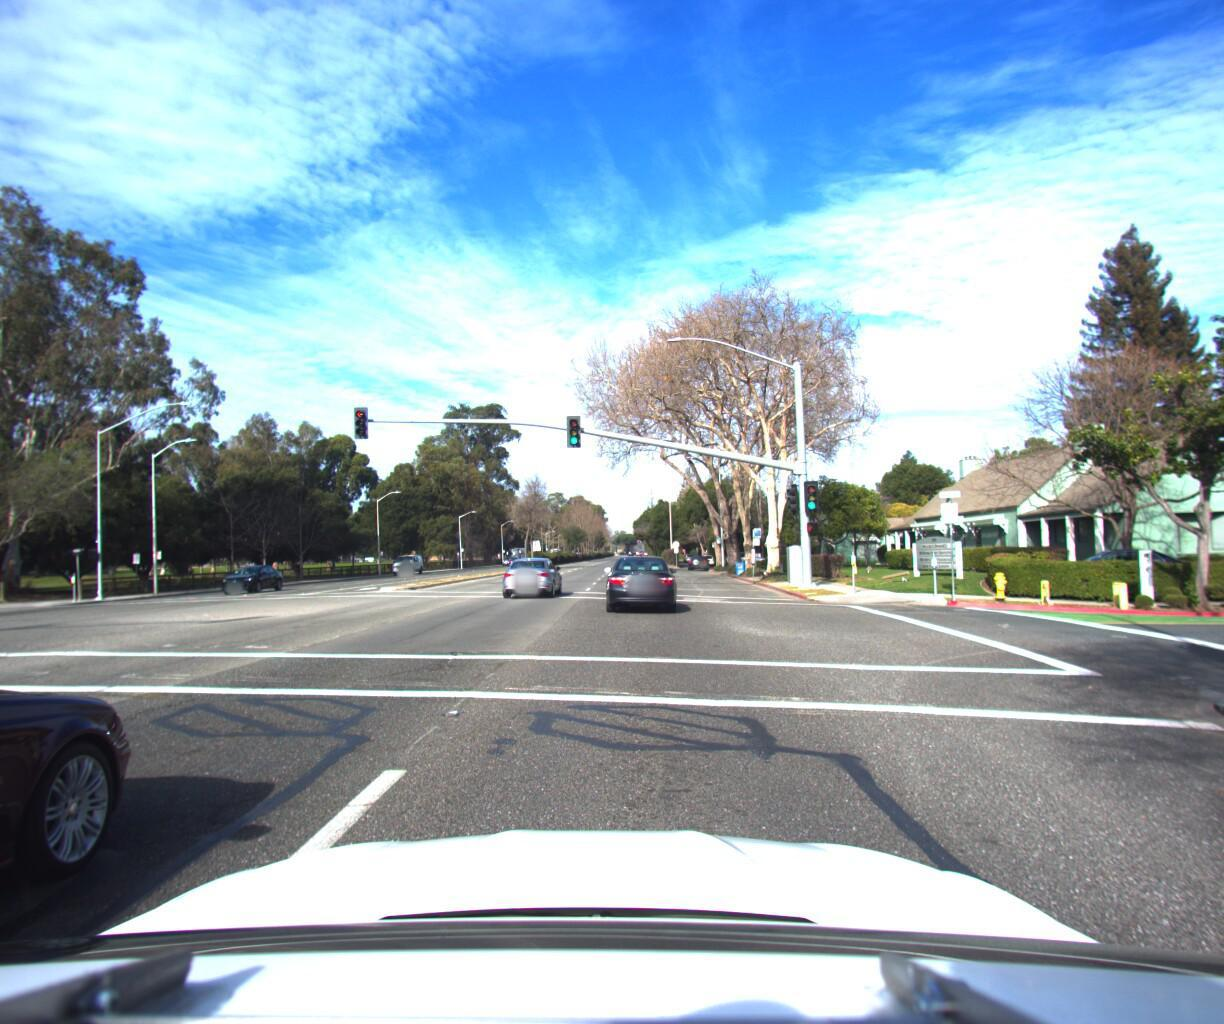car: (0, 562, 186, 1024), (1037, 536, 1201, 586), (607, 544, 681, 608), (504, 549, 566, 591), (217, 555, 295, 587), (391, 547, 425, 568), (690, 546, 714, 563)
